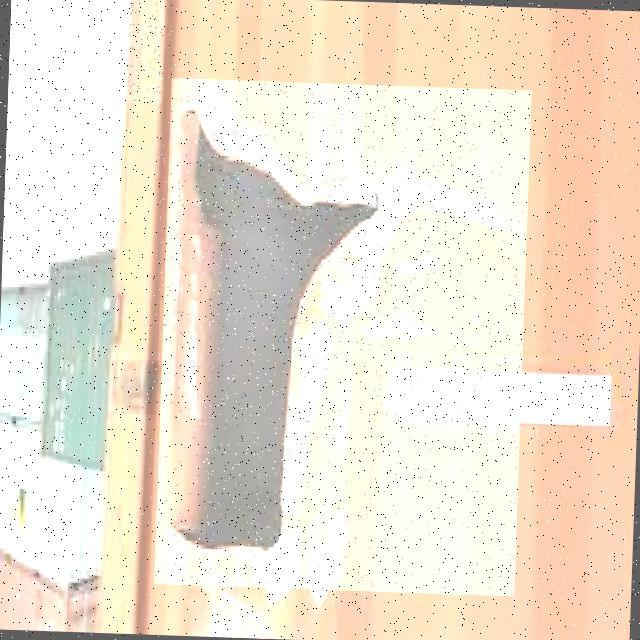Hole: (154, 78, 531, 596)
Rust: (125, 0, 165, 103), (112, 359, 159, 415)
